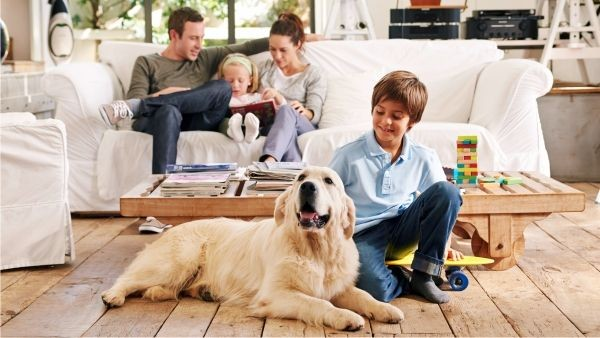Person: (318, 67, 460, 308), (93, 5, 237, 176), (254, 3, 332, 171), (213, 51, 281, 153)
